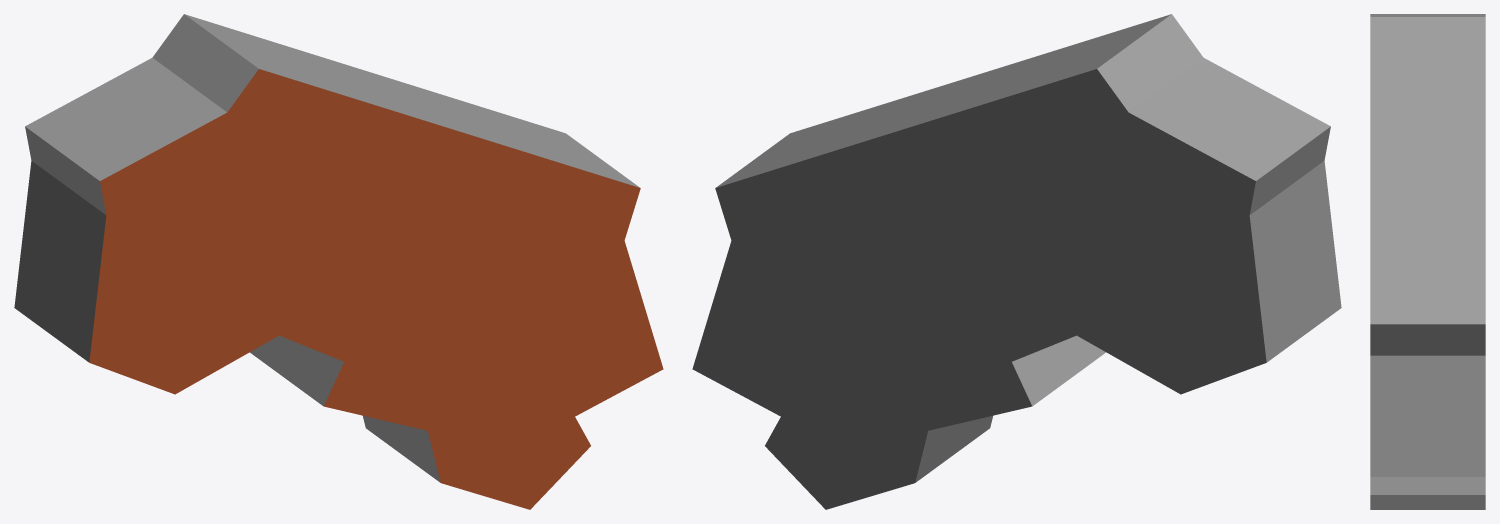
Rendered from construction_6326_assumed_A_Casa_h6m.obj.
The picture shows the model from 3 angles, left to right: view 1: azimuth 30°, elevation 25°; view 2: azimuth 150°, elevation 25°; view 3: azimuth 270°, elevation 25°; orthographic projection. The views are drawn at different scales.
Parts seen in each view (by area): view 1: construction_6326_assumed_A_Casa; view 2: construction_6326_assumed_A_Casa; view 3: construction_6326_assumed_A_Casa.
Part boxes in pixels (bbox=[...]): construction_6326_assumed_A_Casa: bbox=[14, 14, 663, 509]; construction_6326_assumed_A_Casa: bbox=[692, 14, 1341, 509]; construction_6326_assumed_A_Casa: bbox=[1370, 14, 1485, 509].
Bounding box in the file's own units: 26.55 × 22.41 × 6.
